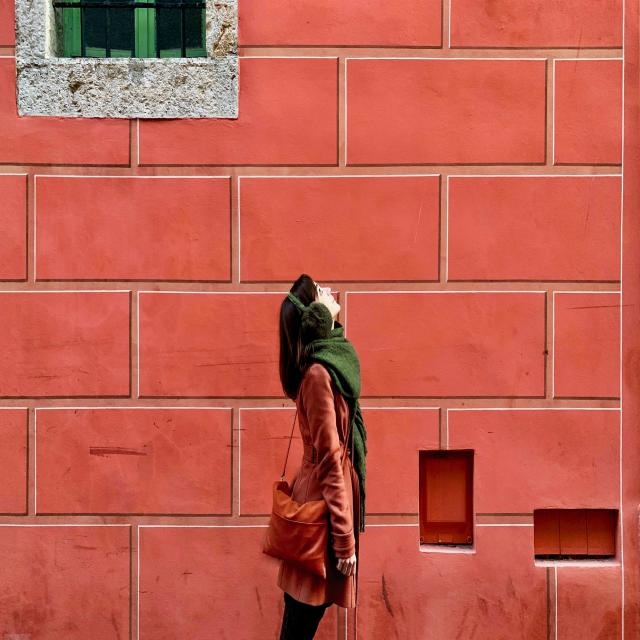adult: (257, 273, 374, 640)
